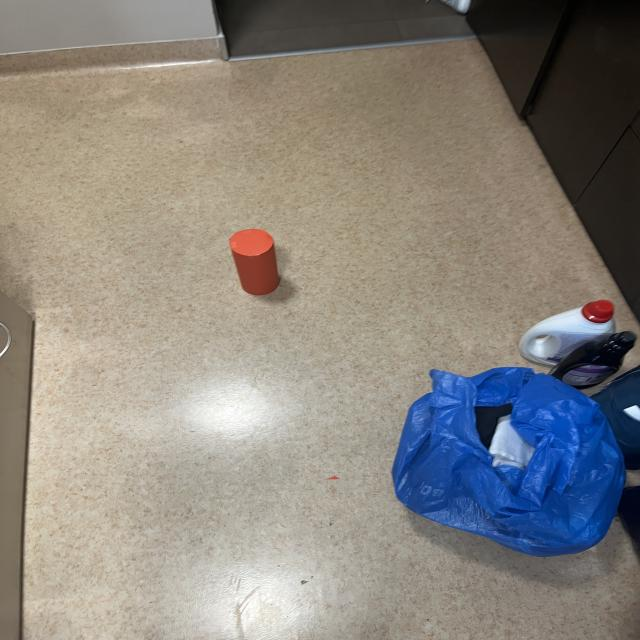przeszkoda: (229, 229, 280, 295)
